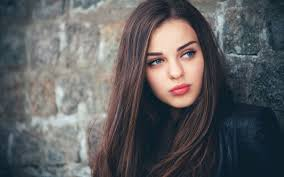no_mask: (138, 9, 209, 112)
